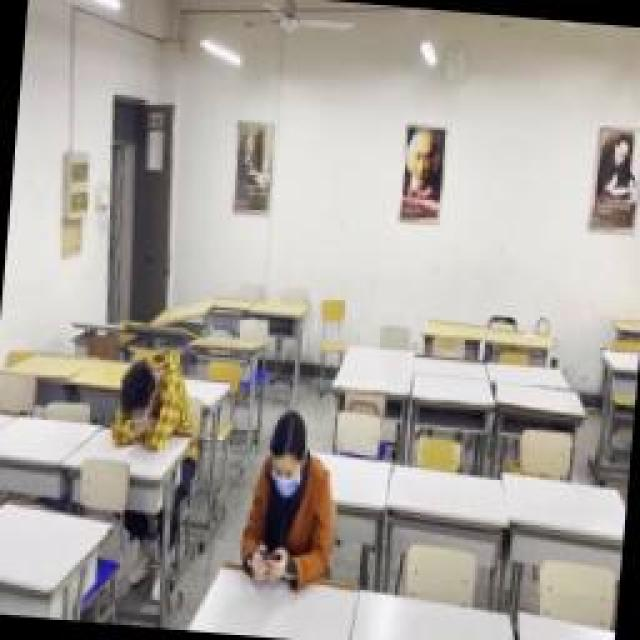phone: (240, 408, 338, 588)
sleep: (107, 345, 185, 450)
